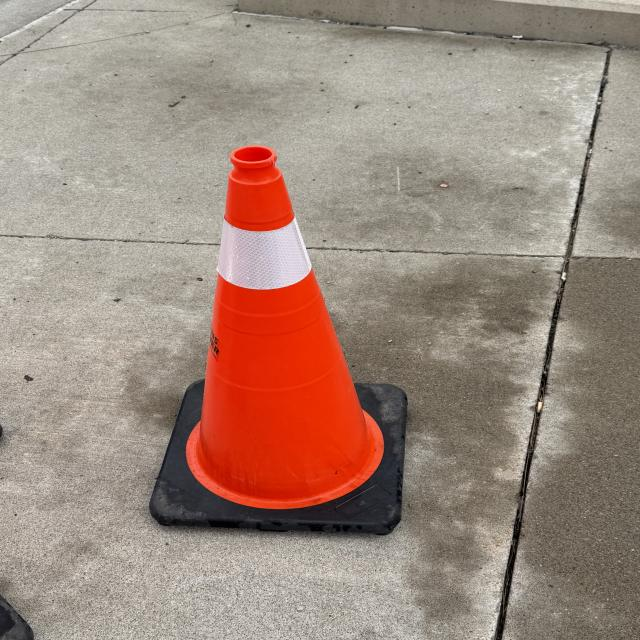Traffic Cone: (146, 144, 408, 531)
